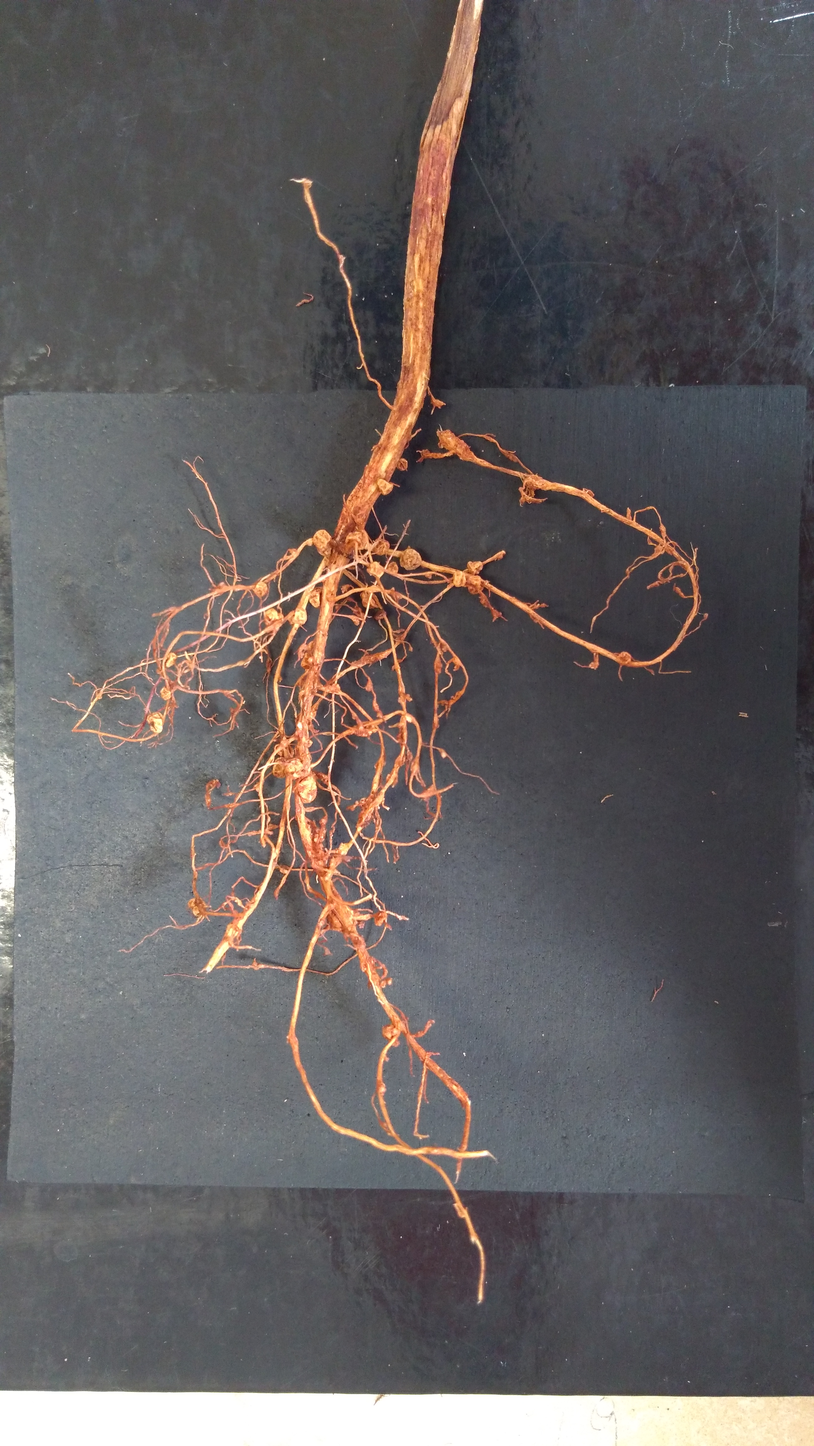nodule: (325, 905, 354, 930), (297, 772, 317, 803), (311, 842, 328, 877), (263, 607, 283, 632), (346, 529, 369, 550), (400, 548, 421, 570), (314, 529, 331, 556), (284, 758, 303, 780), (382, 1025, 400, 1047), (358, 802, 372, 828), (353, 721, 375, 737), (360, 589, 378, 608), (288, 606, 307, 624), (188, 897, 206, 916), (522, 474, 542, 491), (146, 712, 162, 733), (467, 575, 484, 594), (272, 757, 286, 779), (373, 538, 390, 555), (377, 478, 393, 495), (274, 744, 294, 757), (367, 562, 385, 576), (327, 853, 342, 869), (453, 571, 467, 588), (301, 652, 315, 669), (467, 561, 483, 575), (312, 827, 326, 842), (309, 589, 320, 607), (210, 582, 224, 596), (254, 582, 267, 597), (302, 706, 317, 719), (374, 911, 387, 926), (617, 651, 631, 664), (166, 652, 177, 667), (378, 1079, 387, 1097), (397, 457, 408, 471), (160, 686, 171, 700), (434, 655, 442, 674), (381, 977, 393, 989), (491, 608, 502, 620), (338, 842, 348, 855), (374, 609, 385, 620), (480, 593, 488, 608), (388, 562, 398, 574), (279, 863, 290, 873), (331, 682, 340, 694), (300, 739, 313, 747), (441, 642, 449, 652), (319, 815, 327, 824), (256, 782, 262, 793), (424, 572, 433, 579), (358, 920, 365, 928), (353, 619, 360, 626), (703, 612, 708, 618)
